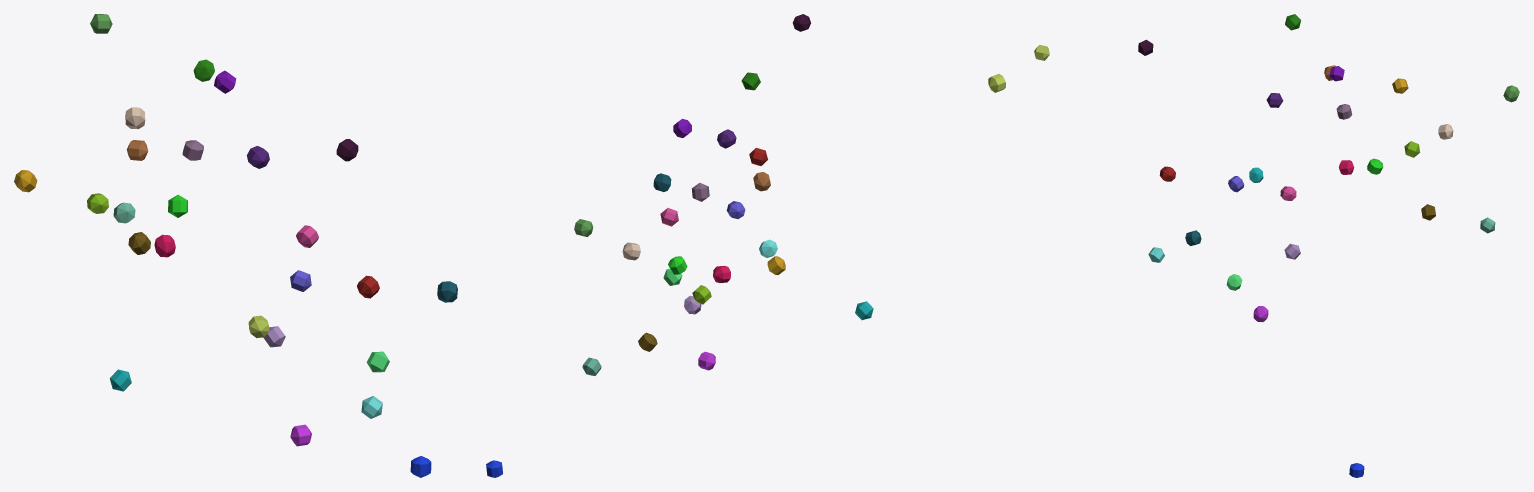
File: fg-00020-bone.obj
3 renders of one model, left to right at view 1: azimuth 30°, elevation 25°; view 2: azimuth 150°, elevation 25°; view 3: azimuth 270°, elevation 25°, orthographic. The views are drawn at different scales.
Bounding box in the file's own units: 0.1949 × 0.24 × 0.2845.
